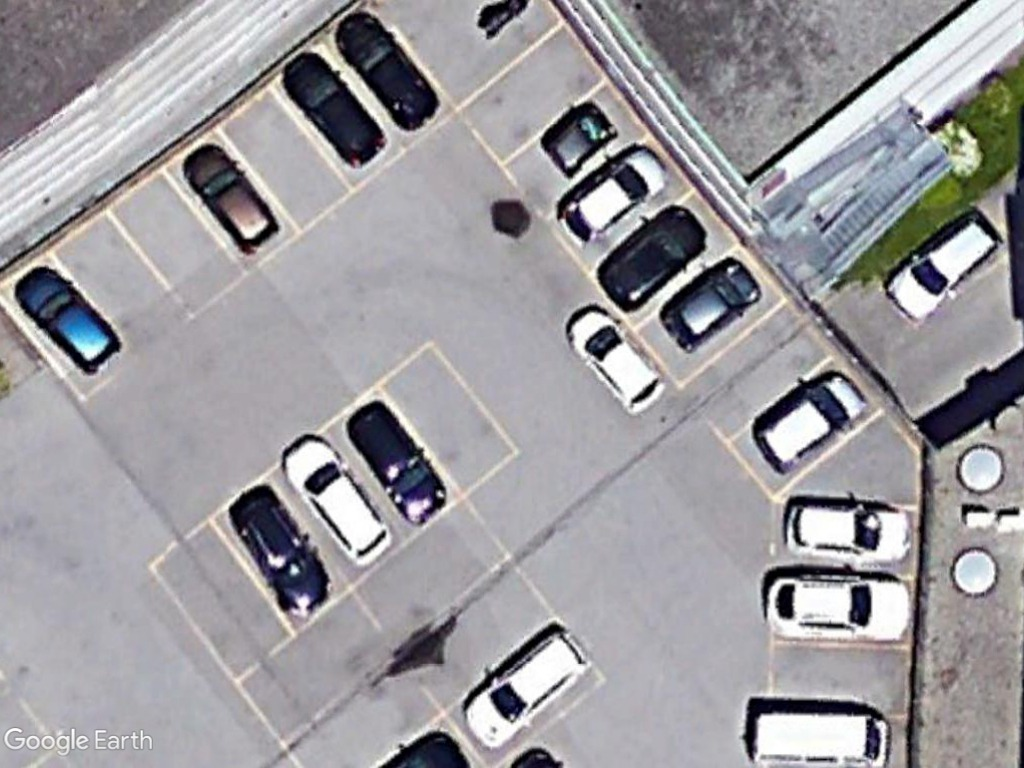car: (462, 626, 593, 754), (279, 432, 396, 567), (225, 480, 333, 623), (344, 396, 461, 523), (880, 215, 1004, 327), (9, 267, 124, 376), (278, 54, 385, 171), (755, 371, 876, 474), (593, 208, 712, 312), (557, 138, 676, 241), (561, 301, 668, 415), (760, 570, 916, 647), (786, 495, 918, 568), (183, 155, 278, 251), (662, 258, 758, 353)
